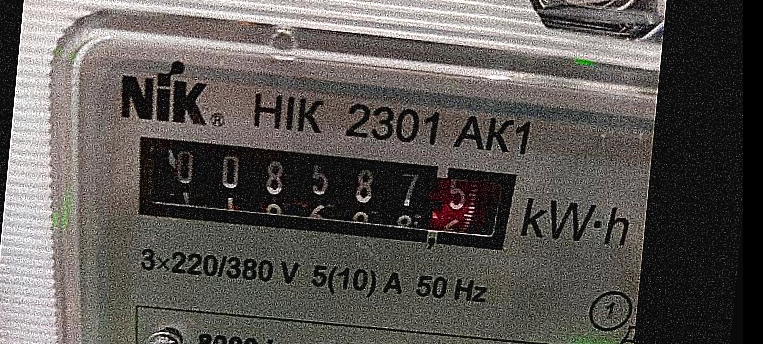0: (216, 148, 243, 190)
1: (170, 144, 198, 187)
5: (443, 171, 471, 213), (306, 158, 333, 198)
7: (395, 167, 421, 210)
8: (259, 154, 288, 198), (351, 163, 376, 206)
screen: (110, 114, 537, 272)
